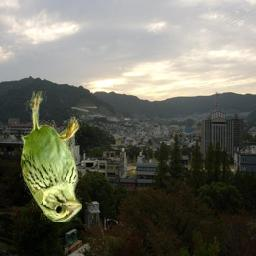Sparrow: (20, 92, 82, 223)
